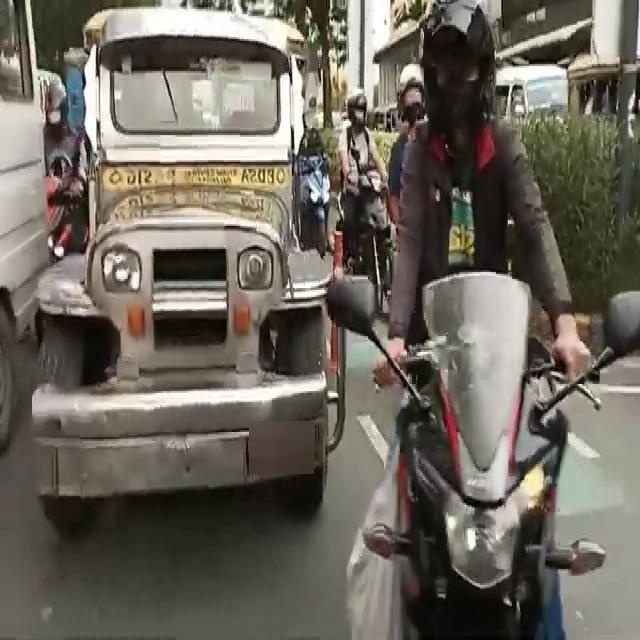jeepney: (66, 17, 321, 535)
motorcycle: (395, 49, 547, 640), (338, 91, 388, 332)
